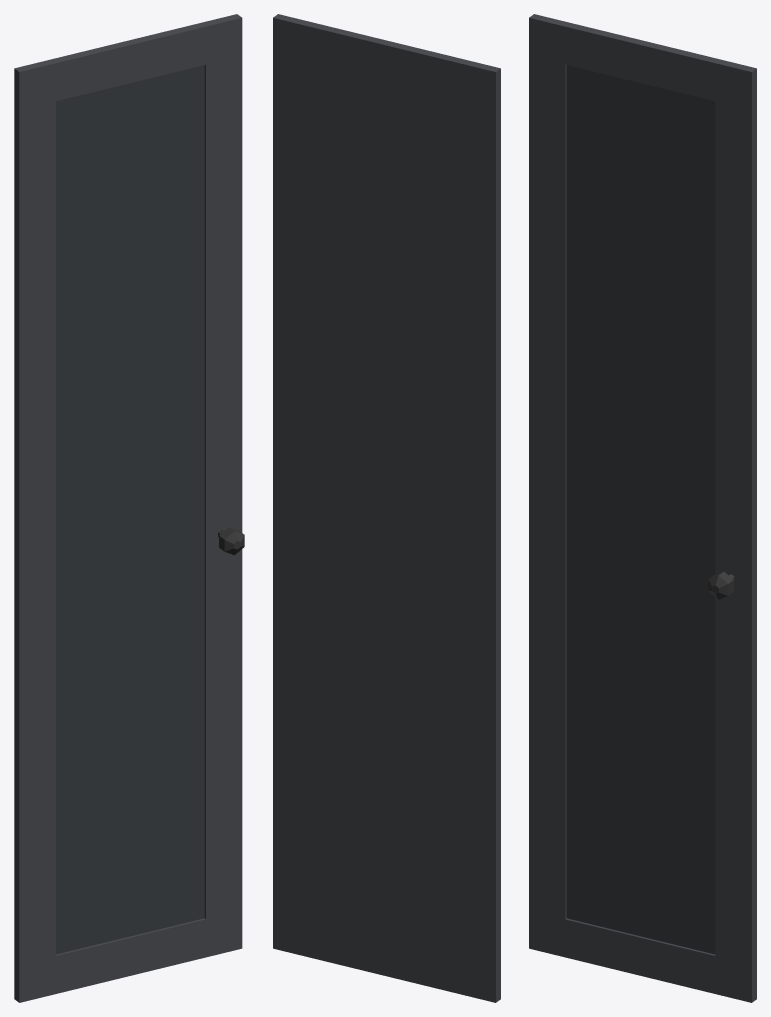
File: Wardrobe7_C2_03.fbx
3 renders of one model, left to right at view 1: azimuth 30°, elevation 25°; view 2: azimuth 150°, elevation 25°; view 3: azimuth 330°, elevation 25°, orthographic.
Visible parts, largest first — view 1: Wardrobe7_C2_03; view 2: Wardrobe7_C2_03; view 3: Wardrobe7_C2_03.
Boxes of the visible parts, x1,y1,x2,y2 form: Wardrobe7_C2_03: (14, 14, 244, 1002); Wardrobe7_C2_03: (273, 14, 500, 1002); Wardrobe7_C2_03: (529, 14, 756, 1002).
Size of the model in its own units: 50 by 200 by 8.1.
